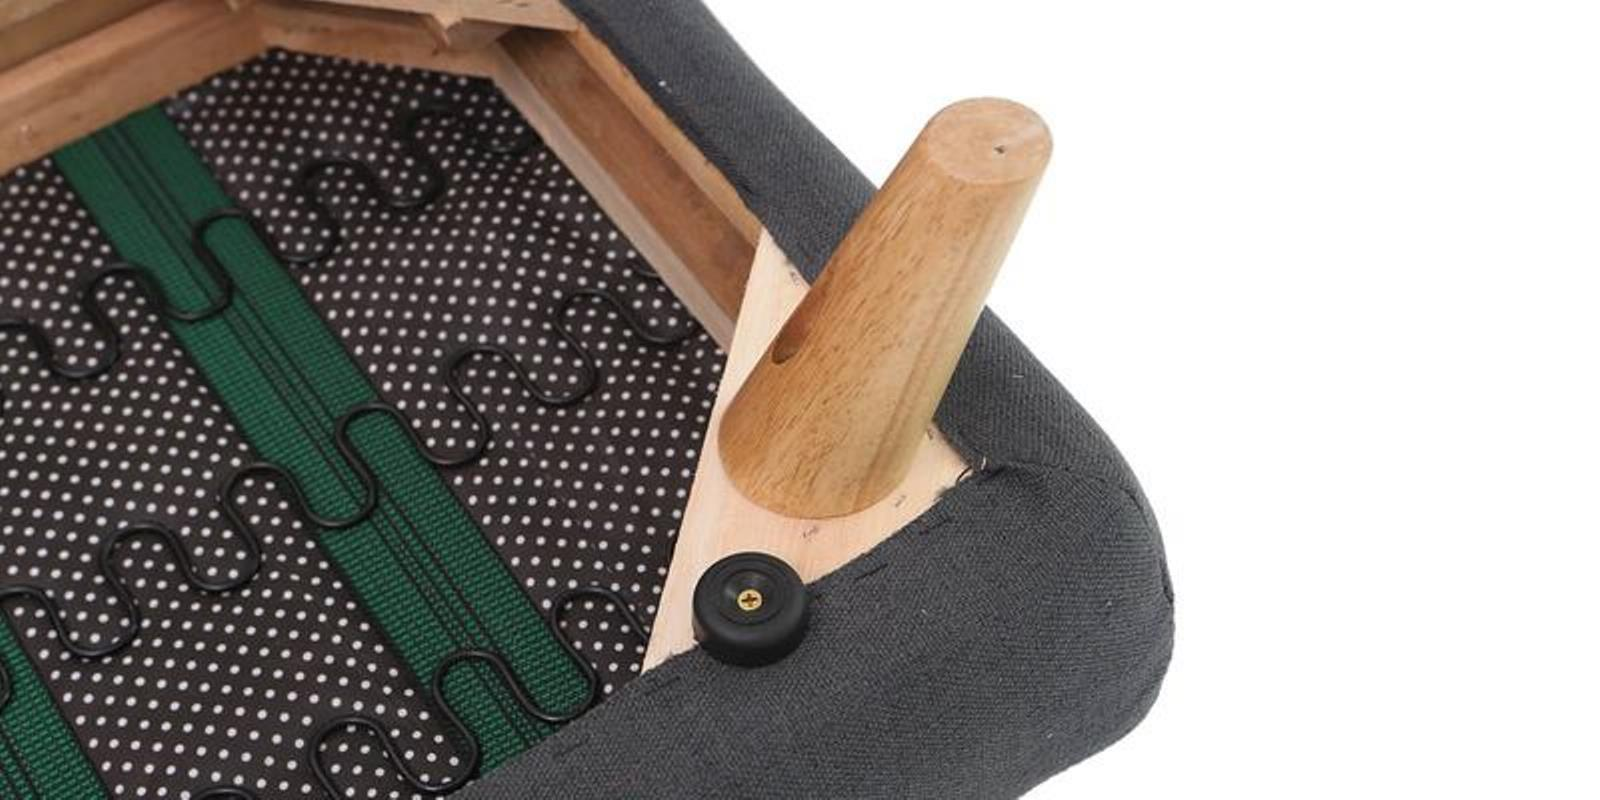Gloria Three Seater Sofa with Ottoman in Grey Colour by CasaCraft: (1, 3, 1187, 800)
